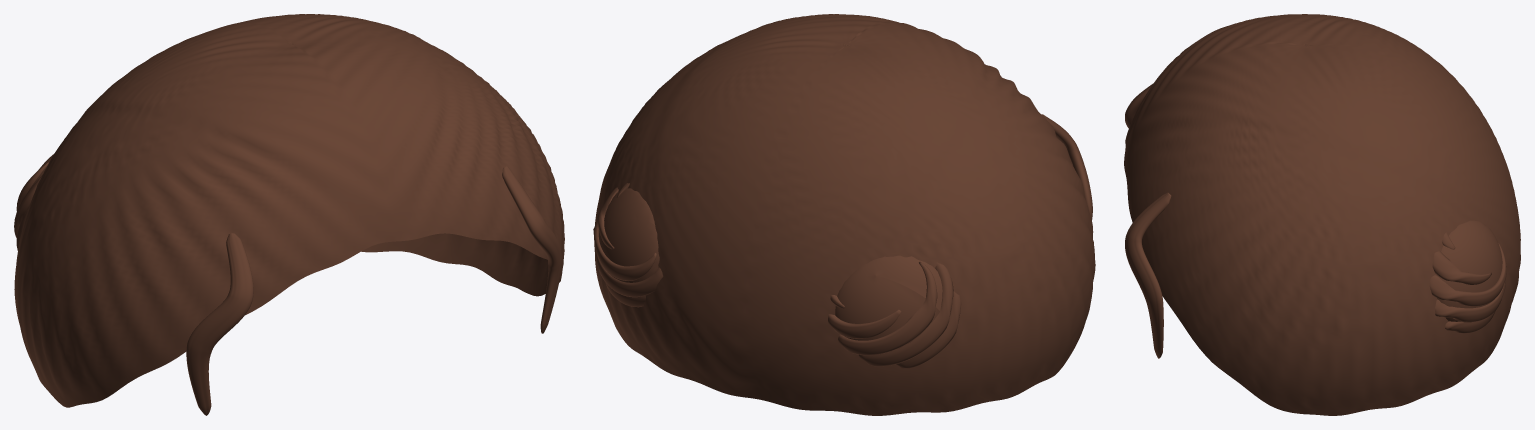
File: Feminine-space-buns-open-pashmina250-hair.glb
3 renders of one model, left to right at view 1: azimuth 30°, elevation 25°; view 2: azimuth 150°, elevation 25°; view 3: azimuth 270°, elevation 25°, orthographic. The views are drawn at different scales.
Visible parts, largest first — view 1: 226 hair / Hair / chestnut226.002; view 2: 226 hair / Hair / chestnut226.002; view 3: 226 hair / Hair / chestnut226.002.
Boxes of the visible parts, <box> form: 226 hair / Hair / chestnut226.002: <box>14,14,564,415</box>; 226 hair / Hair / chestnut226.002: <box>593,14,1095,415</box>; 226 hair / Hair / chestnut226.002: <box>1124,14,1520,415</box>.
Bounding box in the file's own units: 0.9983 × 0.5999 × 0.7835.
